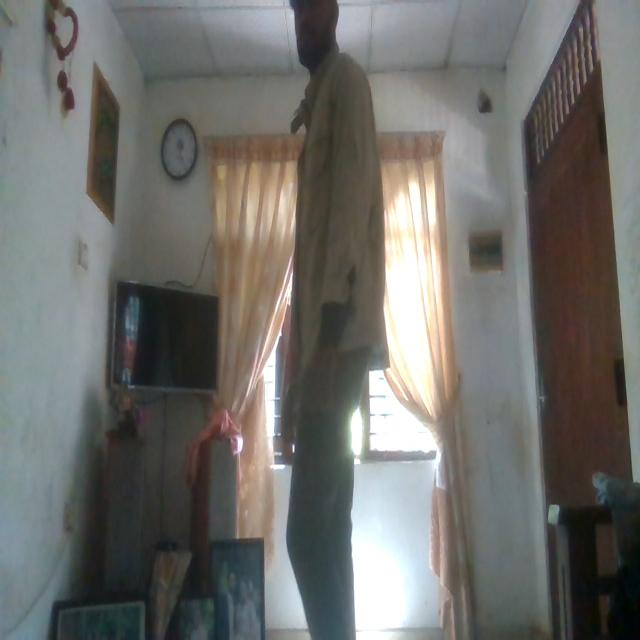Jacket_Wearer: (274, 64, 386, 397)
Person: (268, 0, 389, 640)
